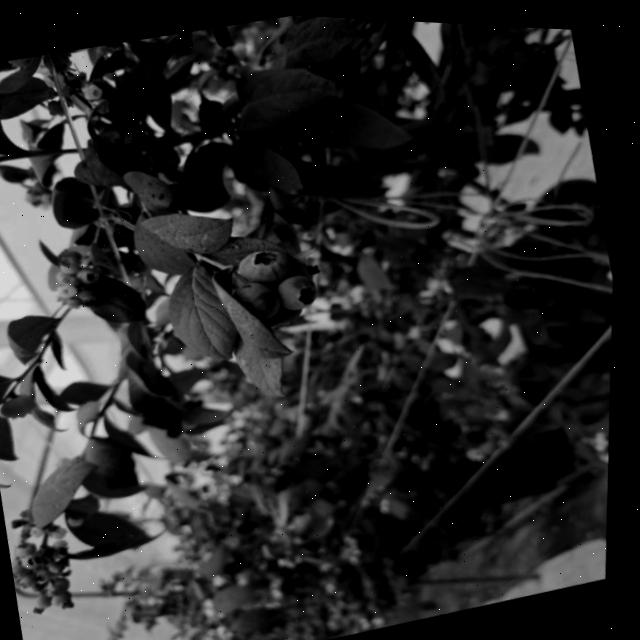RipeBlueBerry: (227, 269, 295, 332), (233, 235, 304, 295), (273, 263, 330, 321)
